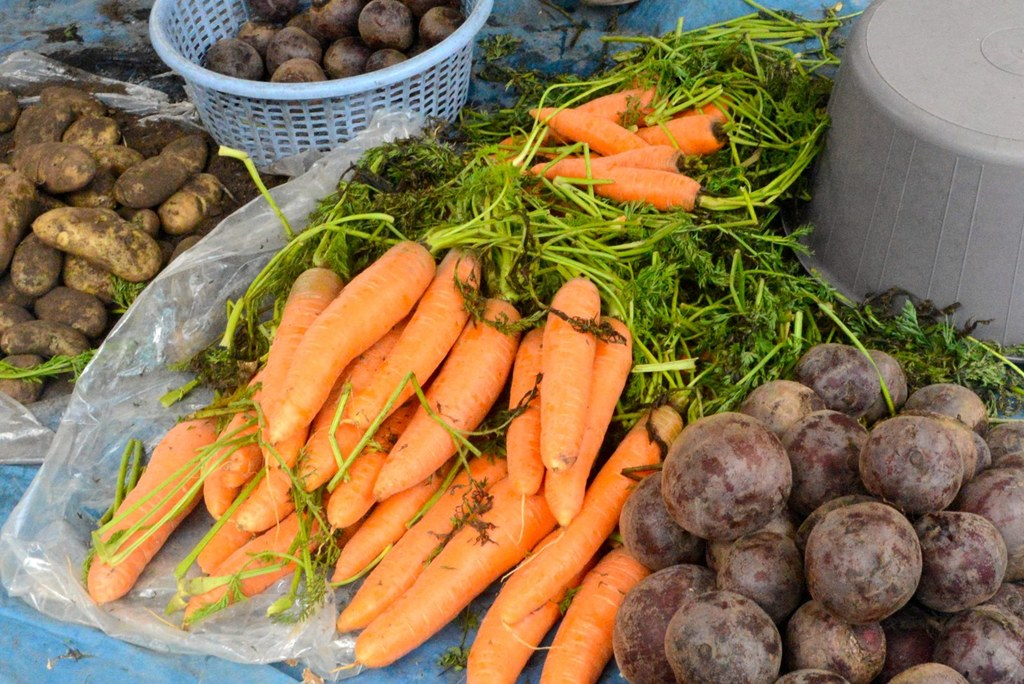Carrot: (87, 67, 832, 684)
